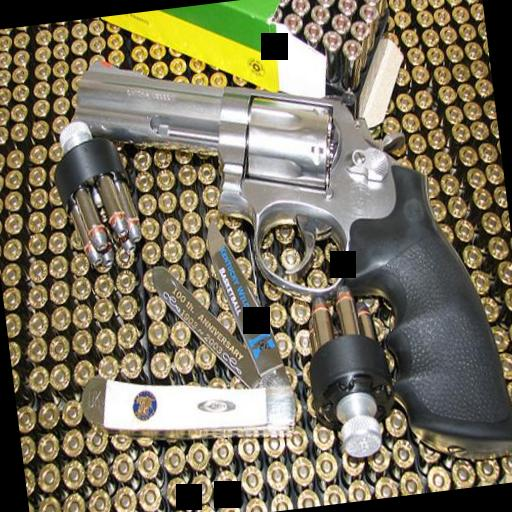Handgun: (62, 10, 512, 506)
